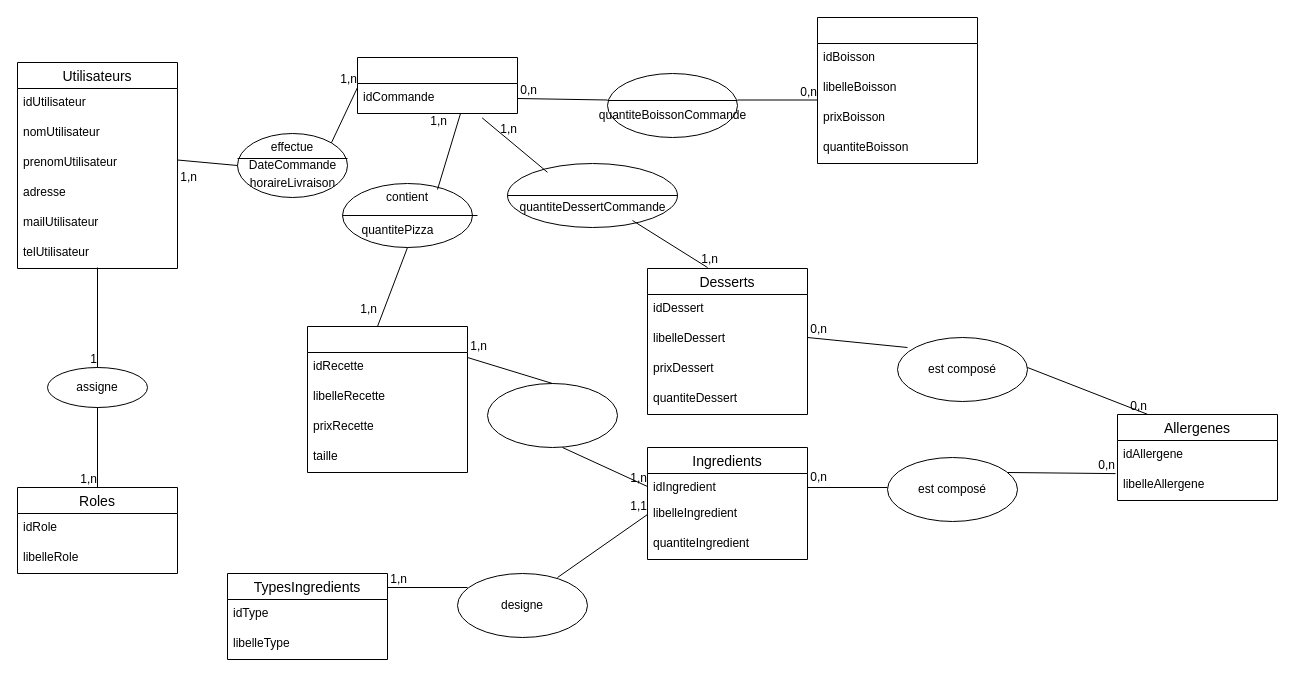
Image size: 1295x680. Some labels were removed from this diagram. Each missing label, with the box of its shape:
Boissons: (816, 16, 978, 164)
Commandes: (356, 56, 518, 114)
comporte: (486, 382, 618, 448)
contientBoisson: (606, 72, 738, 138)
contientDessert: (506, 162, 678, 228)
Recettes: (306, 326, 468, 472)
